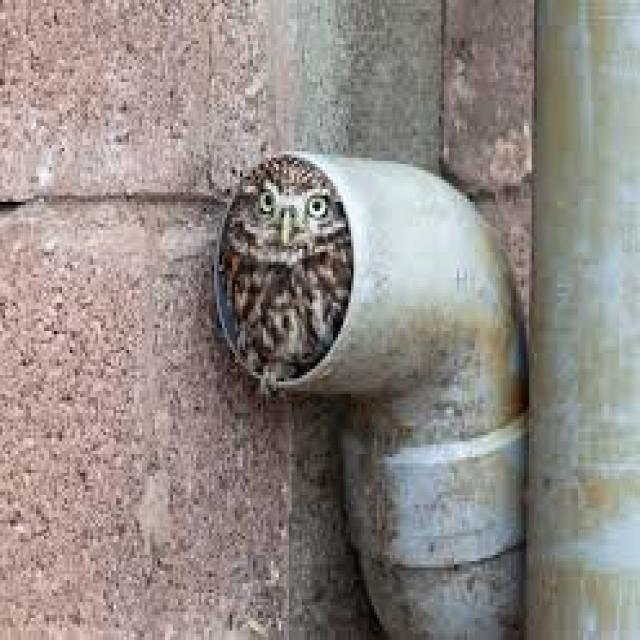Owl: (212, 154, 346, 386)
